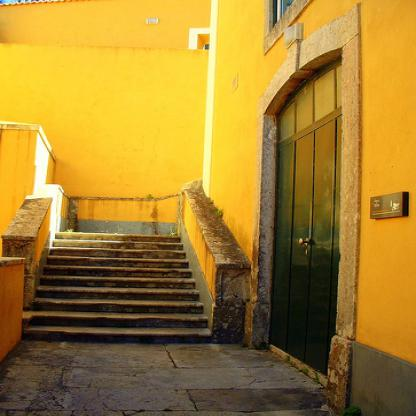stairs: (64, 236, 174, 344)
